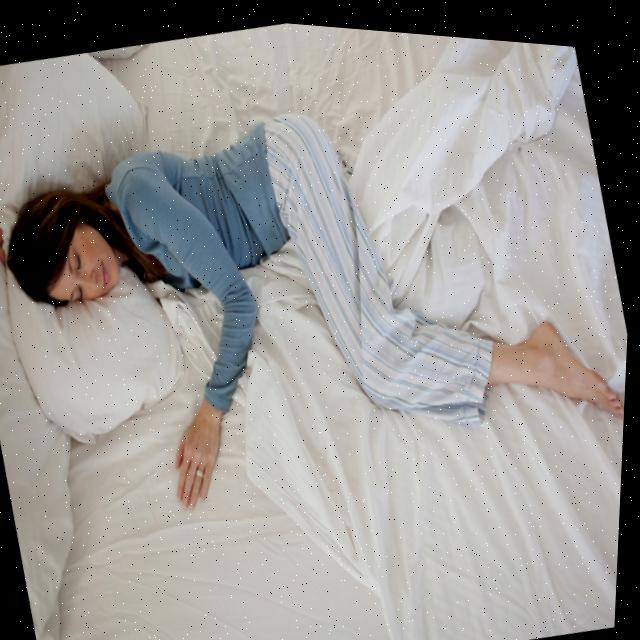sleeping-person: (0, 12, 640, 600)
